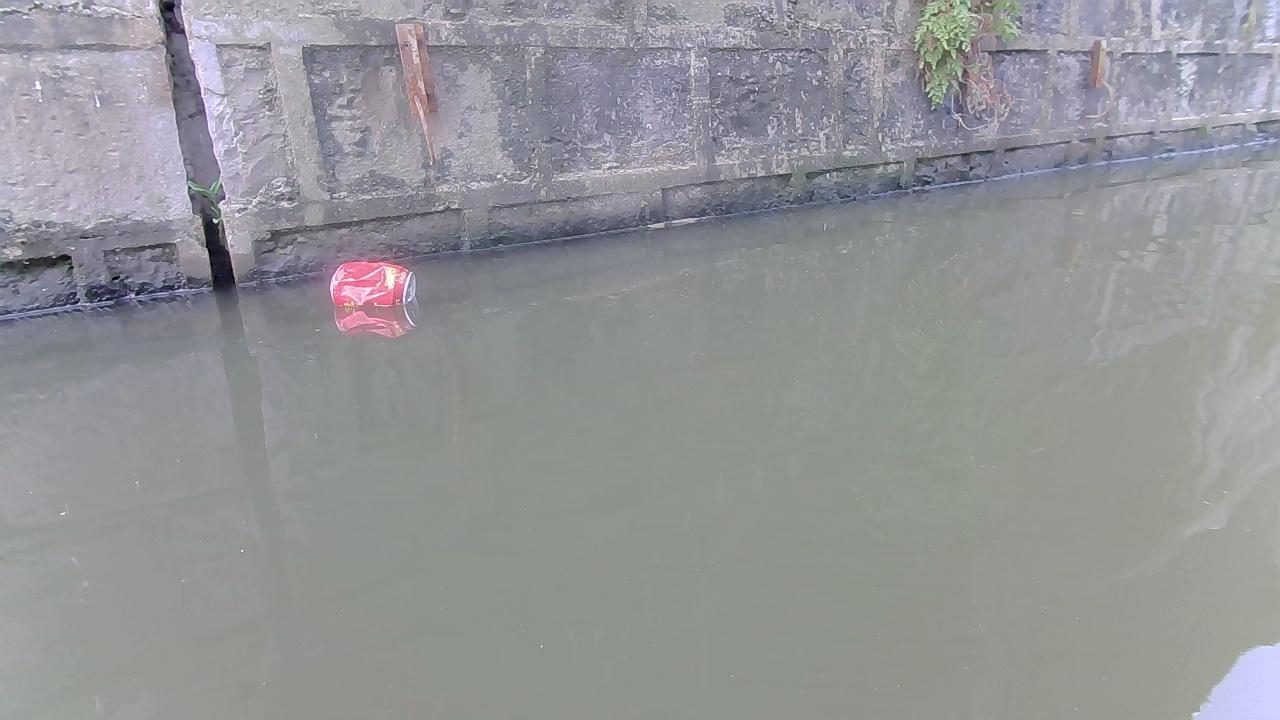bottle: (323, 261, 416, 310)
